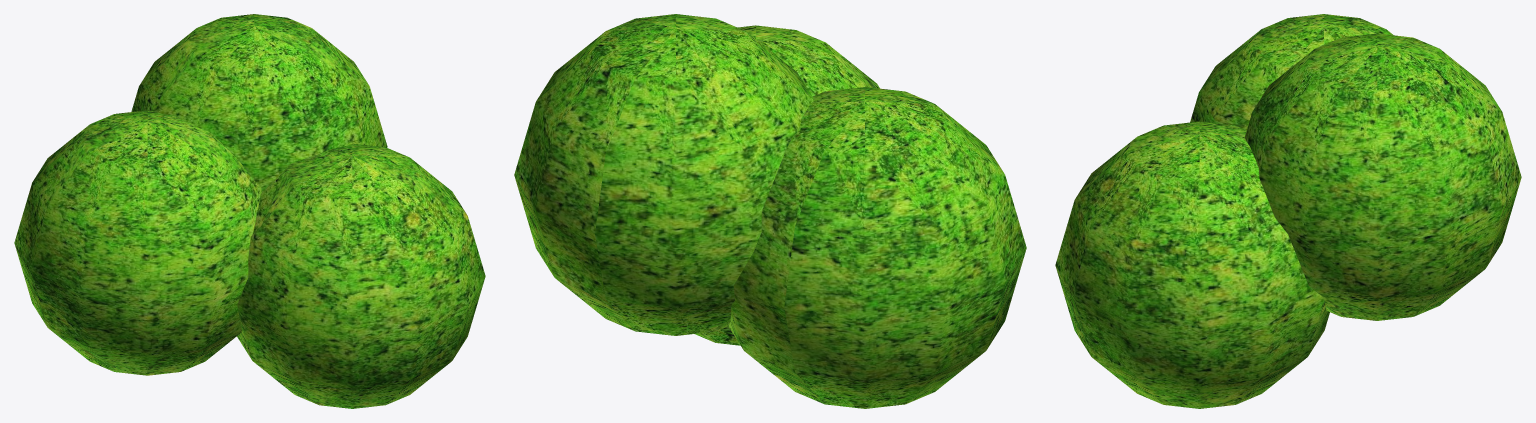
Rendered from Bush.FBX.
The picture shows the model from 3 angles, left to right: view 1: azimuth 30°, elevation 25°; view 2: azimuth 150°, elevation 25°; view 3: azimuth 270°, elevation 25°; orthographic projection. The views are drawn at different scales.
Parts seen in each view (by area): view 1: Sphere005; view 2: Sphere005; view 3: Sphere005.
Boxes of the visible parts, x1,y1,x2,y2 form: Sphere005: [14, 14, 485, 408]; Sphere005: [514, 14, 1026, 408]; Sphere005: [1055, 14, 1521, 408].
Bounding box in the file's own units: 64.52 × 51.33 × 63.6.
